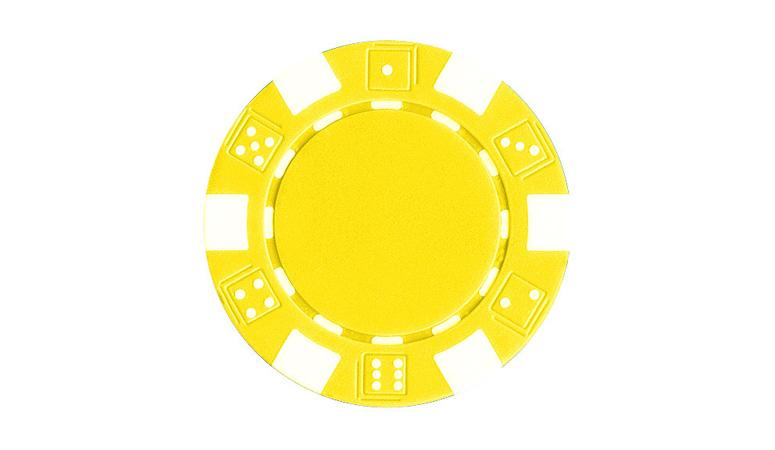chip-yellow: (204, 41, 568, 407)
